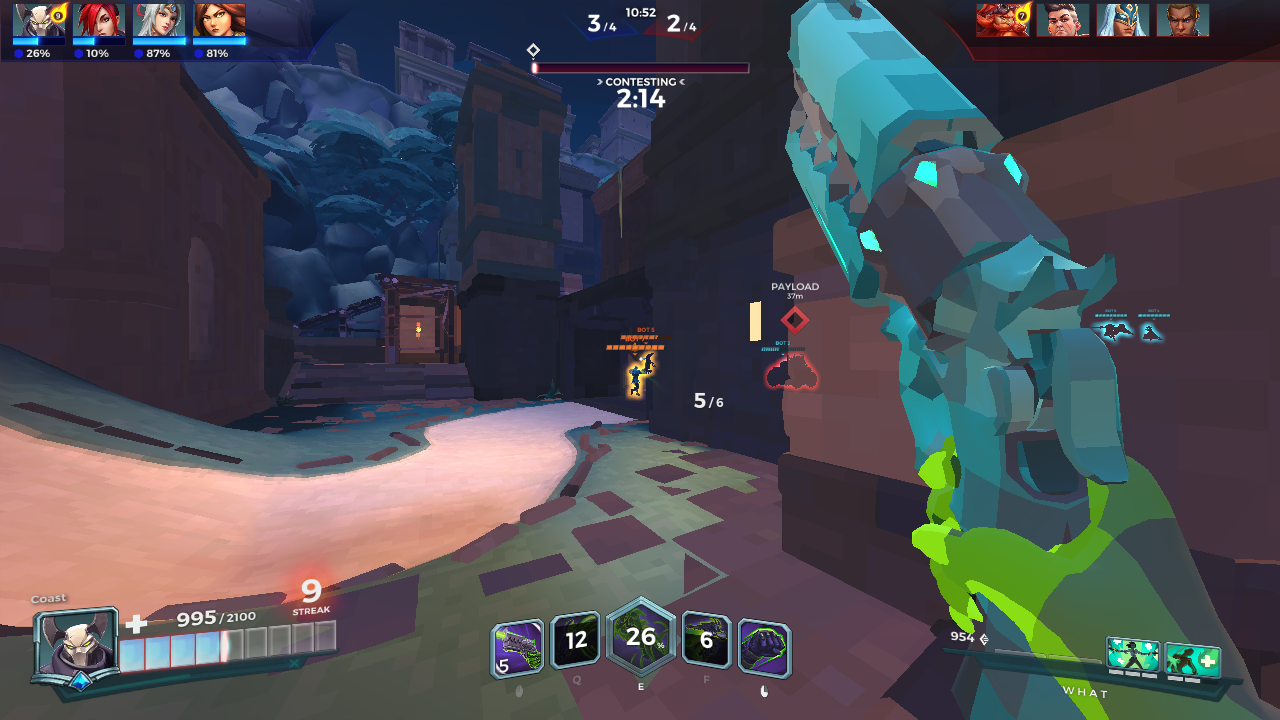model: (624, 362, 642, 395), (645, 355, 662, 380)
